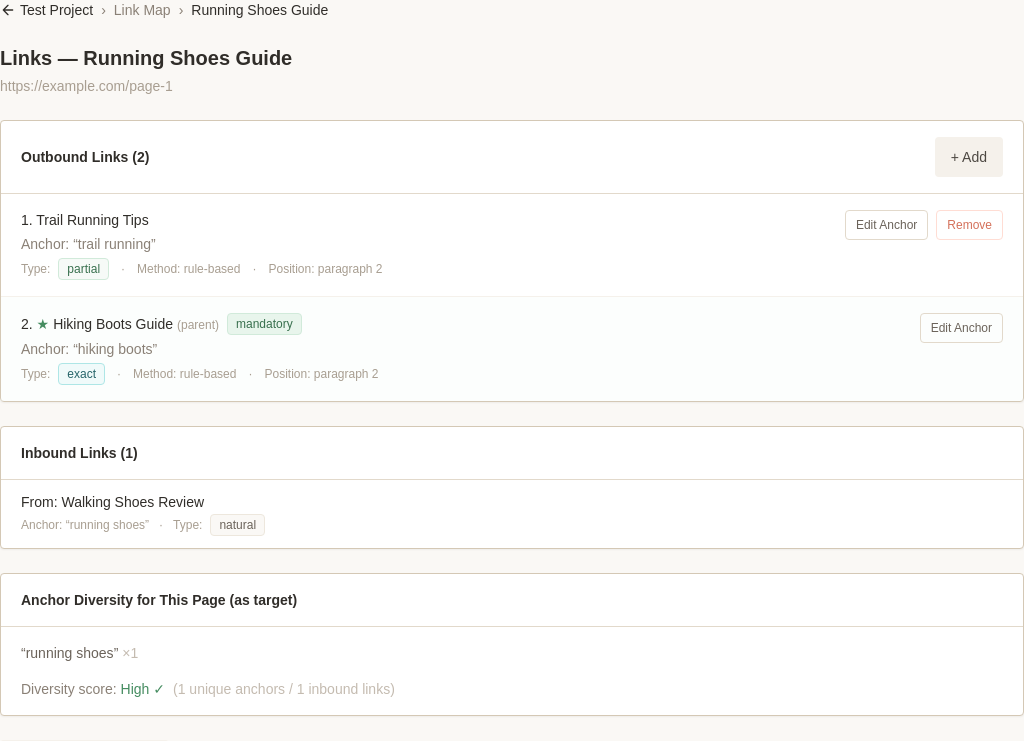
it: PageLinkDetailPage › Add Link modal › opens modal on Add button click
The width and height of the screenshot is (1024, 741).
Click the button "+ Add".
click(969, 157)  # box [935, 137, 1003, 177]
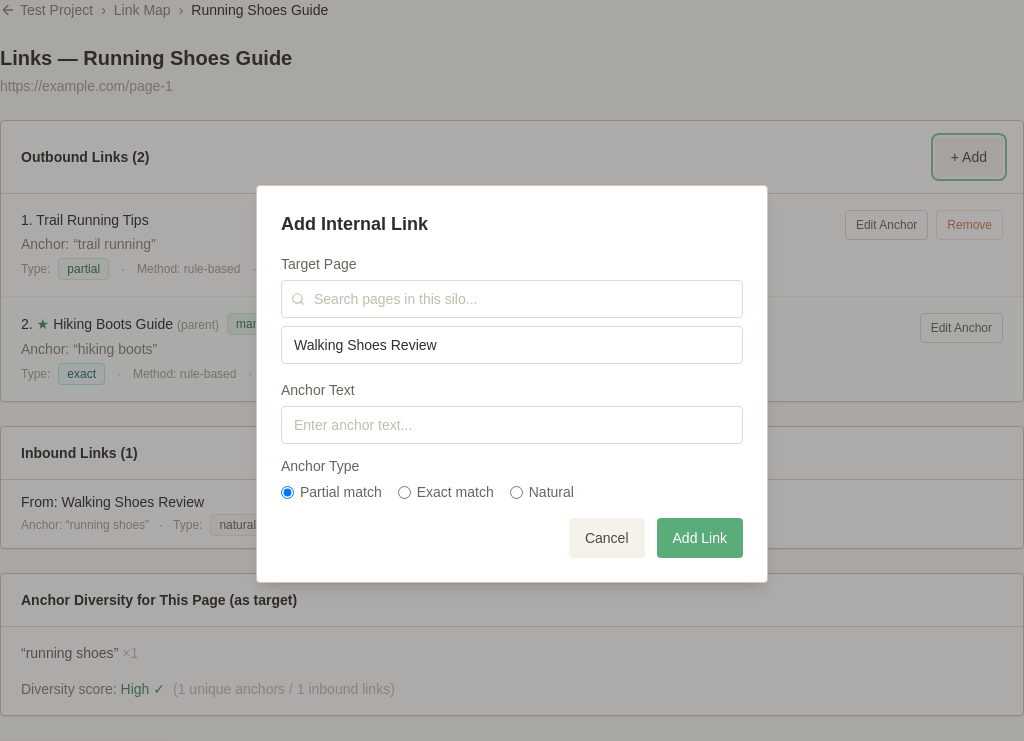
Check: the heading "Add Internal Link" is shown, box [281, 214, 428, 234]
